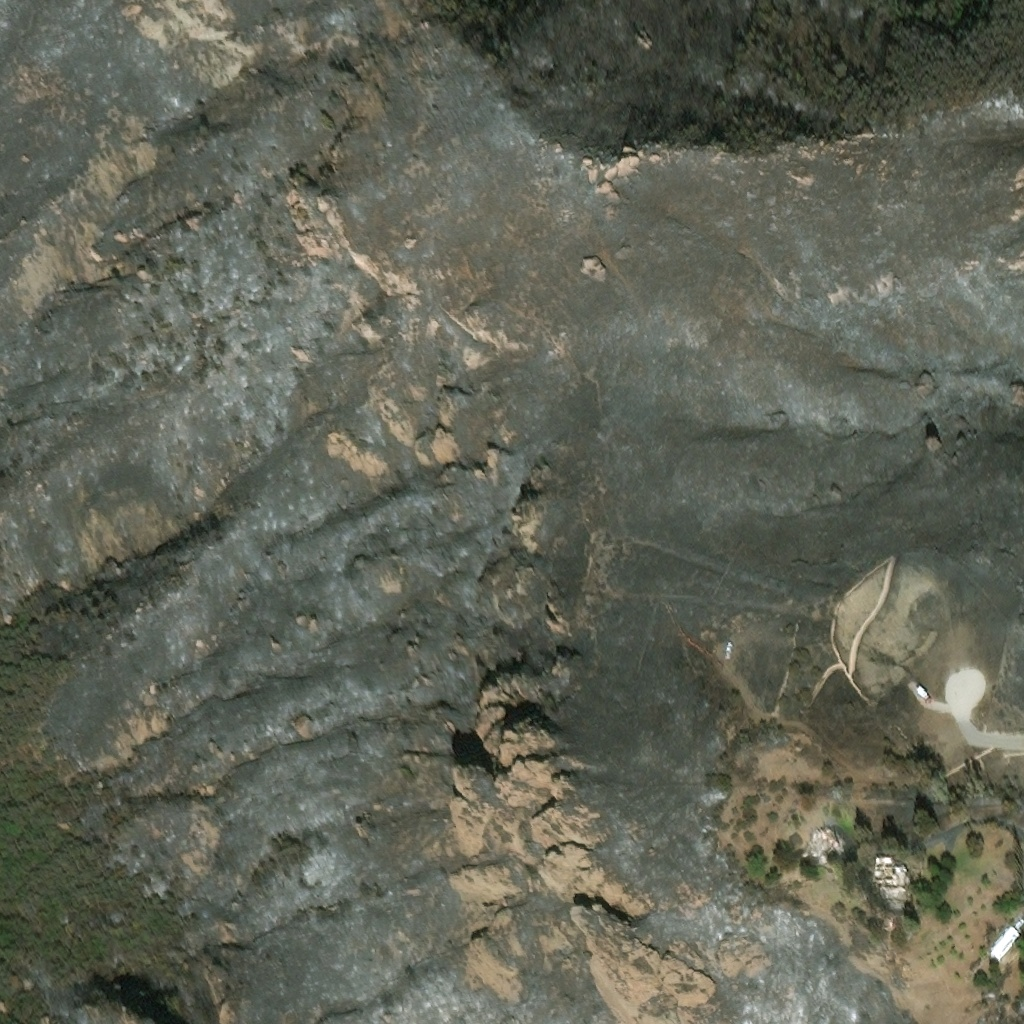0 no-damage: (988, 927, 1021, 965)
3 destroyed: (872, 858, 910, 907), (805, 822, 844, 862)
